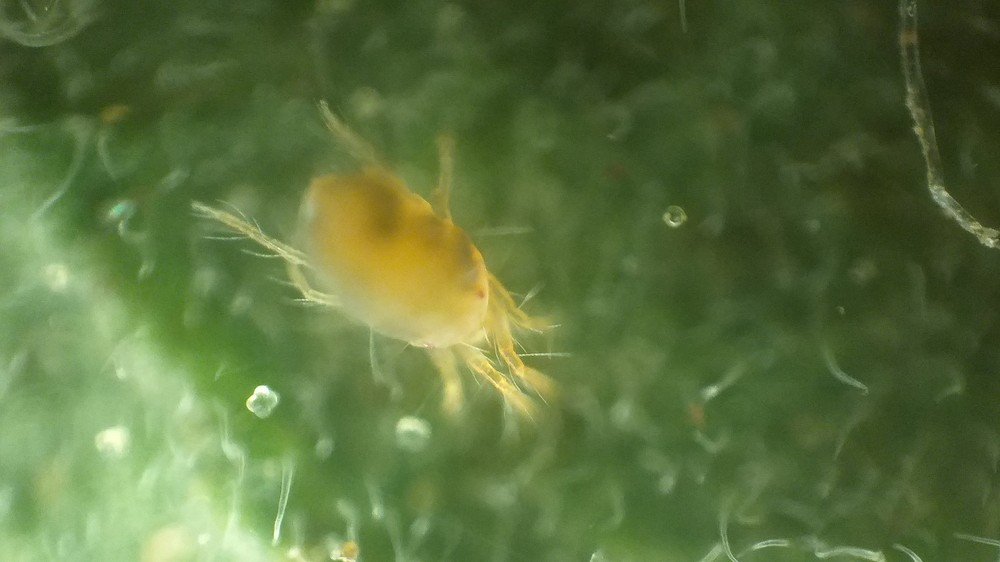Aracnido Rojo: (201, 96, 584, 429)
